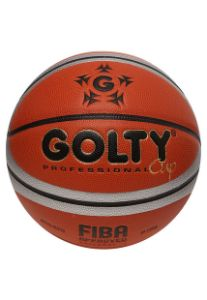baloncesto: (6, 52, 201, 249)
